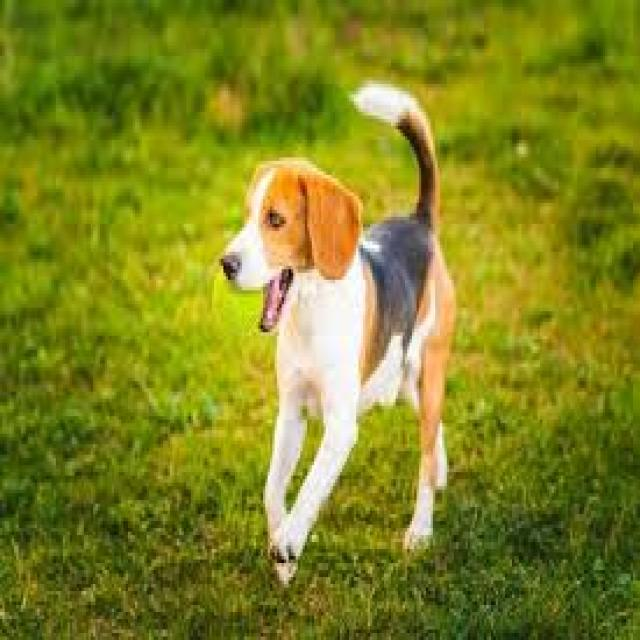Dog: (215, 79, 458, 575)
